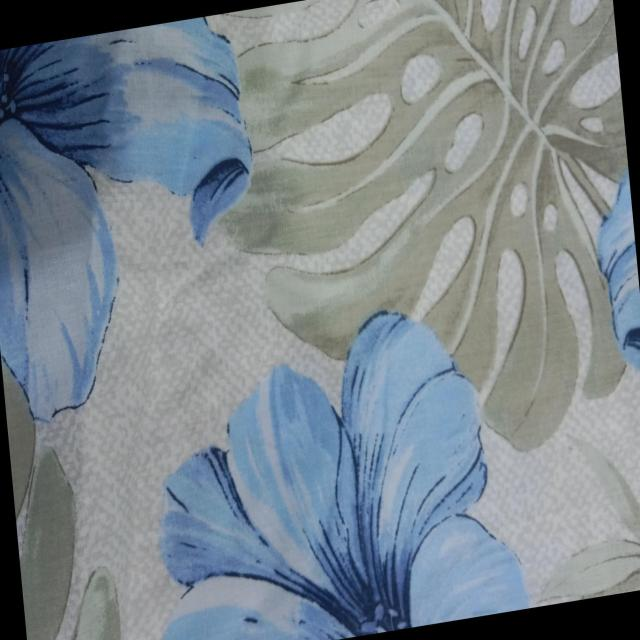baekra: (99, 0, 403, 528)
